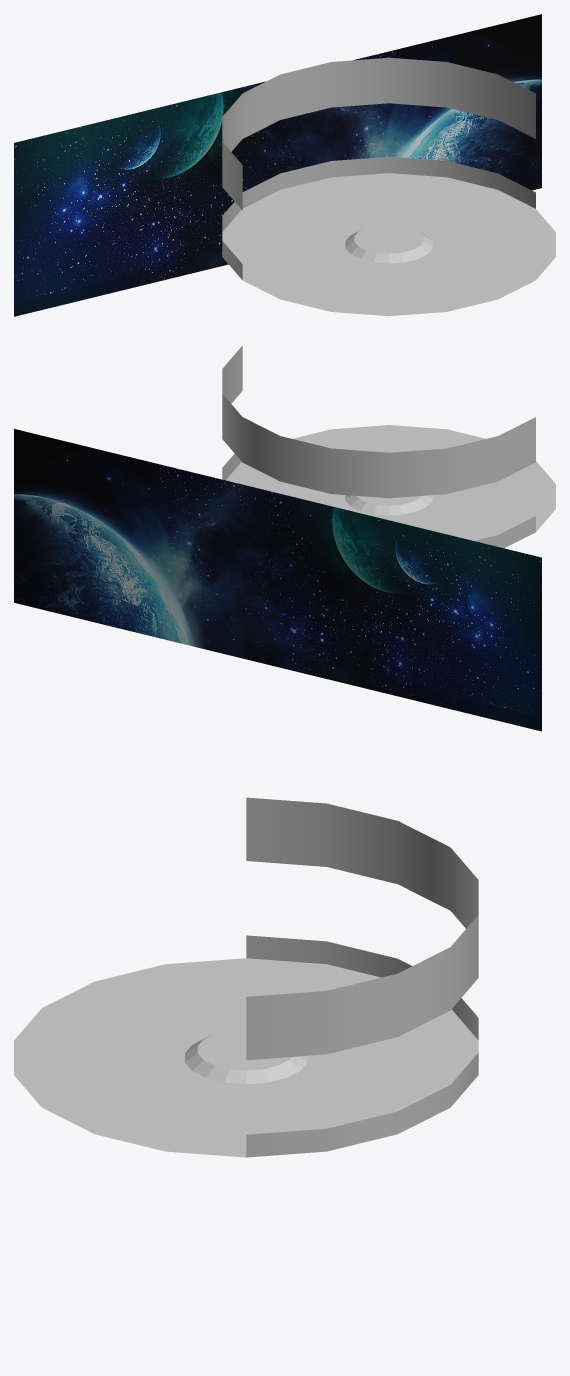
The model's file is stage_second2.FBX.
The picture shows the model from 3 angles, top to bottom: view 1: azimuth 30°, elevation 25°; view 2: azimuth 150°, elevation 25°; view 3: azimuth 270°, elevation 25°; orthographic projection. The views are drawn at different scales.
Parts seen in each view (by area): view 1: Plane001, Cylinder001; view 2: Plane001, Cylinder001; view 3: Cylinder001.
Boxes of the visible parts, bbox=[...] form: Plane001: bbox=[14, 14, 541, 316]; Cylinder001: bbox=[222, 57, 555, 316]; Plane001: bbox=[14, 429, 541, 731]; Cylinder001: bbox=[222, 345, 555, 548]; Cylinder001: bbox=[14, 797, 478, 1157].
Size of the model in its own units: 270 by 99.97 by 172.
